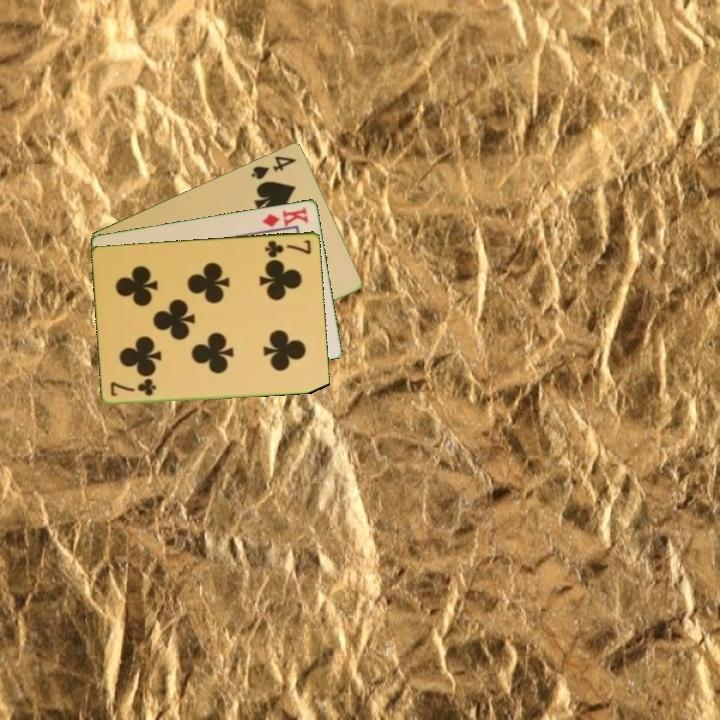4s: (248, 152, 300, 182)
7c: (261, 236, 314, 260), (107, 377, 159, 399)
Kd: (259, 203, 311, 230)
